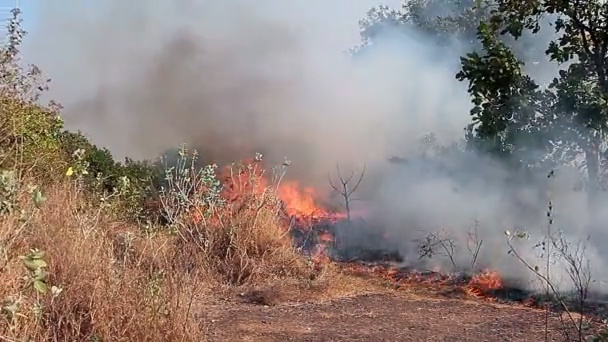fire: (279, 184, 314, 215), (66, 168, 72, 175)
